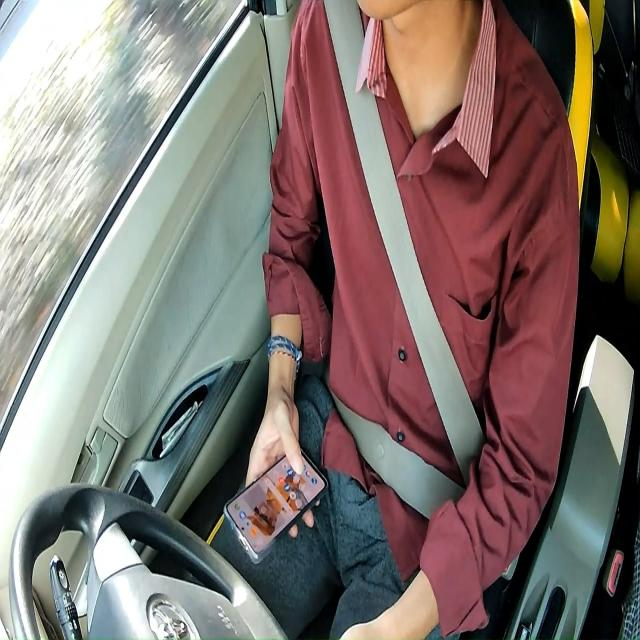phone: (222, 439, 329, 567)
